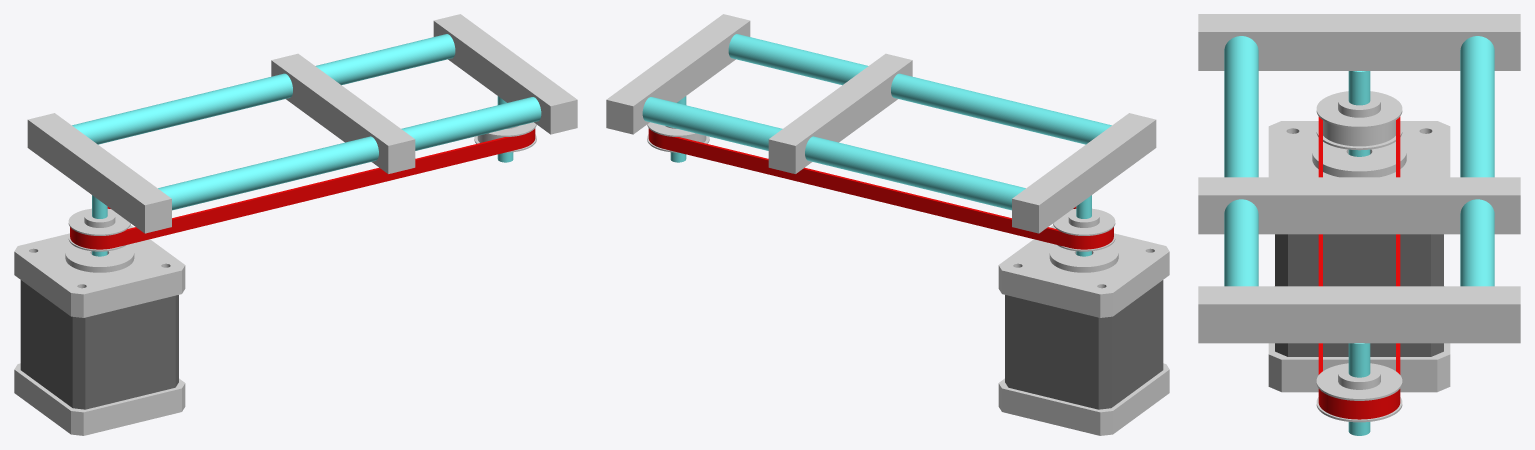
3 views of the same model, side by side, from view 1: azimuth 30°, elevation 25°; view 2: azimuth 150°, elevation 25°; view 3: azimuth 270°, elevation 25° (orthographic). The views are drawn at different scales.
Parts seen in each view (by area): view 1: out.drive.stepper.stator, out.drive.stepper.topcap, out.rails.rail_0001, out.rails.rail_0000, out.drive_end.box, out.drive.drive.belt, out.carriage.box, out.idle_end.box, out.drive.stepper.botcap, out.drive.drive.p, out.drive.drive.p2; view 2: out.drive.stepper.stator, out.drive.stepper.topcap, out.rails.rail_0000, out.rails.rail_0001, out.drive_end.box, out.drive.drive.belt, out.carriage.box, out.idle_end.box, out.drive.stepper.botcap, out.drive.drive.p, out.drive.drive.p2; view 3: out.idle_end.box, out.carriage.box, out.drive_end.box, out.drive.stepper.stator, out.rails.rail_0000, out.rails.rail_0001, out.drive.stepper.topcap, out.drive.stepper.botcap, out.drive.drive.p, out.drive.drive.belt, out.drive.drive.p2, out.drive.idler.shaft (+1 smaller).
Part boxes in pixels (x1=…): out.drive.stepper.stator: x1=20, y1=280, x2=178, y2=409; out.drive.stepper.topcap: x1=14, y1=225, x2=185, y2=317; out.rails.rail_0001: x1=158, y1=97, x2=541, y2=210; out.rails.rail_0000: x1=72, y1=34, x2=455, y2=144; out.drive_end.box: x1=27, y1=113, x2=171, y2=233; out.drive.drive.belt: x1=70, y1=128, x2=535, y2=249; out.carriage.box: x1=271, y1=53, x2=415, y2=173; out.idle_end.box: x1=433, y1=14, x2=577, y2=134; out.drive.stepper.botcap: x1=14, y1=363, x2=185, y2=435; out.drive.drive.p: x1=68, y1=208, x2=130, y2=251; out.drive.drive.p2: x1=474, y1=122, x2=536, y2=152; out.drive.stepper.stator: x1=1005, y1=280, x2=1163, y2=409; out.drive.stepper.topcap: x1=998, y1=225, x2=1169, y2=317; out.rails.rail_0000: x1=642, y1=97, x2=1025, y2=210; out.rails.rail_0001: x1=728, y1=34, x2=1111, y2=144; out.drive_end.box: x1=1012, y1=113, x2=1156, y2=233; out.drive.drive.belt: x1=648, y1=128, x2=1113, y2=249; out.carriage.box: x1=768, y1=53, x2=912, y2=173; out.idle_end.box: x1=606, y1=14, x2=750, y2=134; out.drive.stepper.botcap: x1=998, y1=363, x2=1169, y2=435; out.drive.drive.p: x1=1053, y1=208, x2=1115, y2=251; out.drive.drive.p2: x1=647, y1=122, x2=709, y2=152; out.idle_end.box: x1=1198, y1=286, x2=1520, y2=343; out.carriage.box: x1=1198, y1=177, x2=1520, y2=234; out.drive_end.box: x1=1198, y1=14, x2=1520, y2=70; out.drive.stepper.stator: x1=1275, y1=234, x2=1443, y2=356; out.rails.rail_0000: x1=1460, y1=36, x2=1494, y2=286; out.rails.rail_0001: x1=1224, y1=36, x2=1258, y2=286; out.drive.stepper.topcap: x1=1268, y1=121, x2=1450, y2=177; out.drive.stepper.botcap: x1=1268, y1=286, x2=1450, y2=392; out.drive.drive.p: x1=1316, y1=91, x2=1402, y2=150; out.drive.drive.belt: x1=1318, y1=116, x2=1400, y2=419; out.drive.drive.p2: x1=1316, y1=363, x2=1402, y2=422; out.drive.idler.shaft: x1=1348, y1=343, x2=1370, y2=435.
Bounding box in the file's own units: 0.1811 × 0.085 × 0.075.
